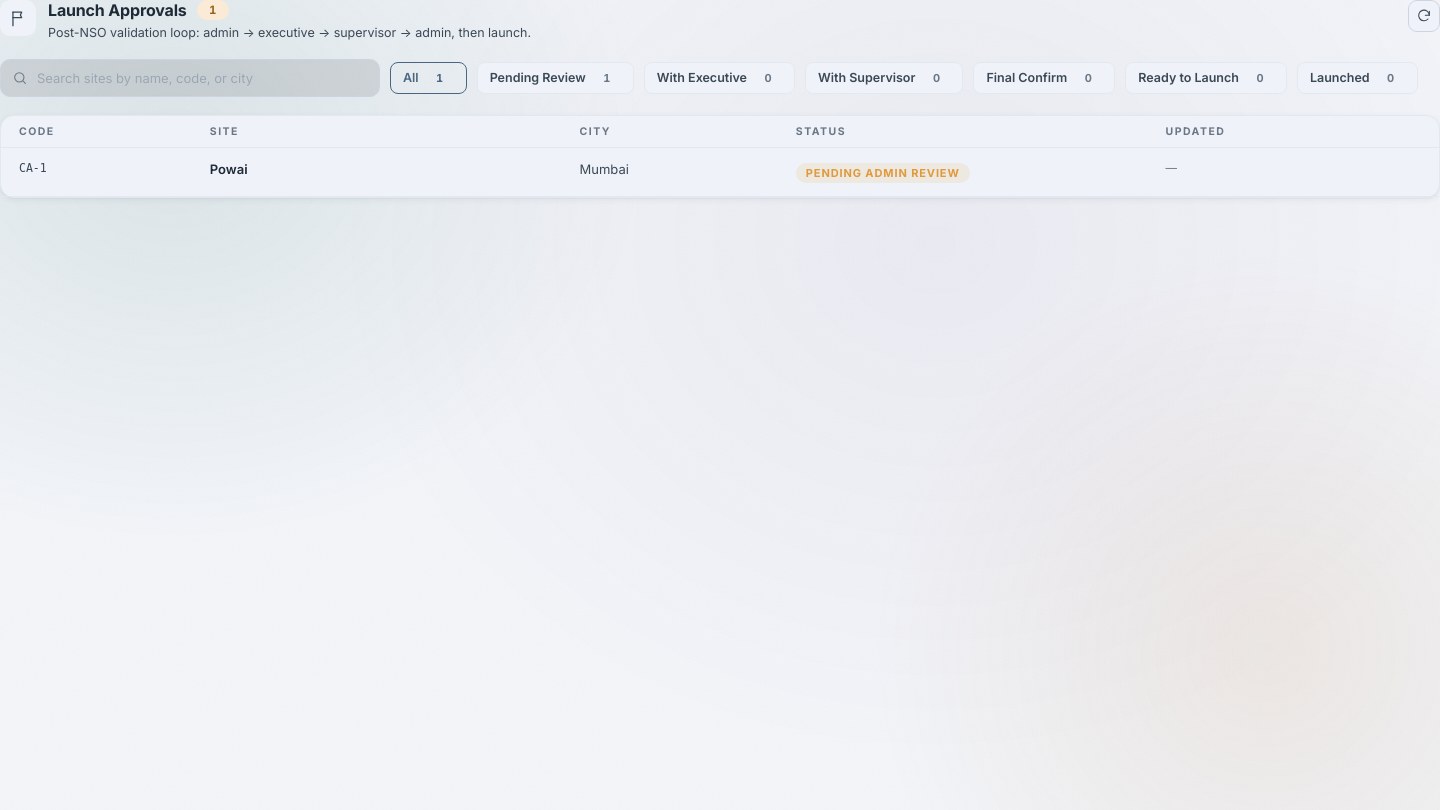
Test case: LaunchApprovalTab — unsaved changes guard › Back dismisses the dialog and does not advance the stage
Click the text "Powai": (229, 169) x1=210 y1=161 x2=248 y2=177
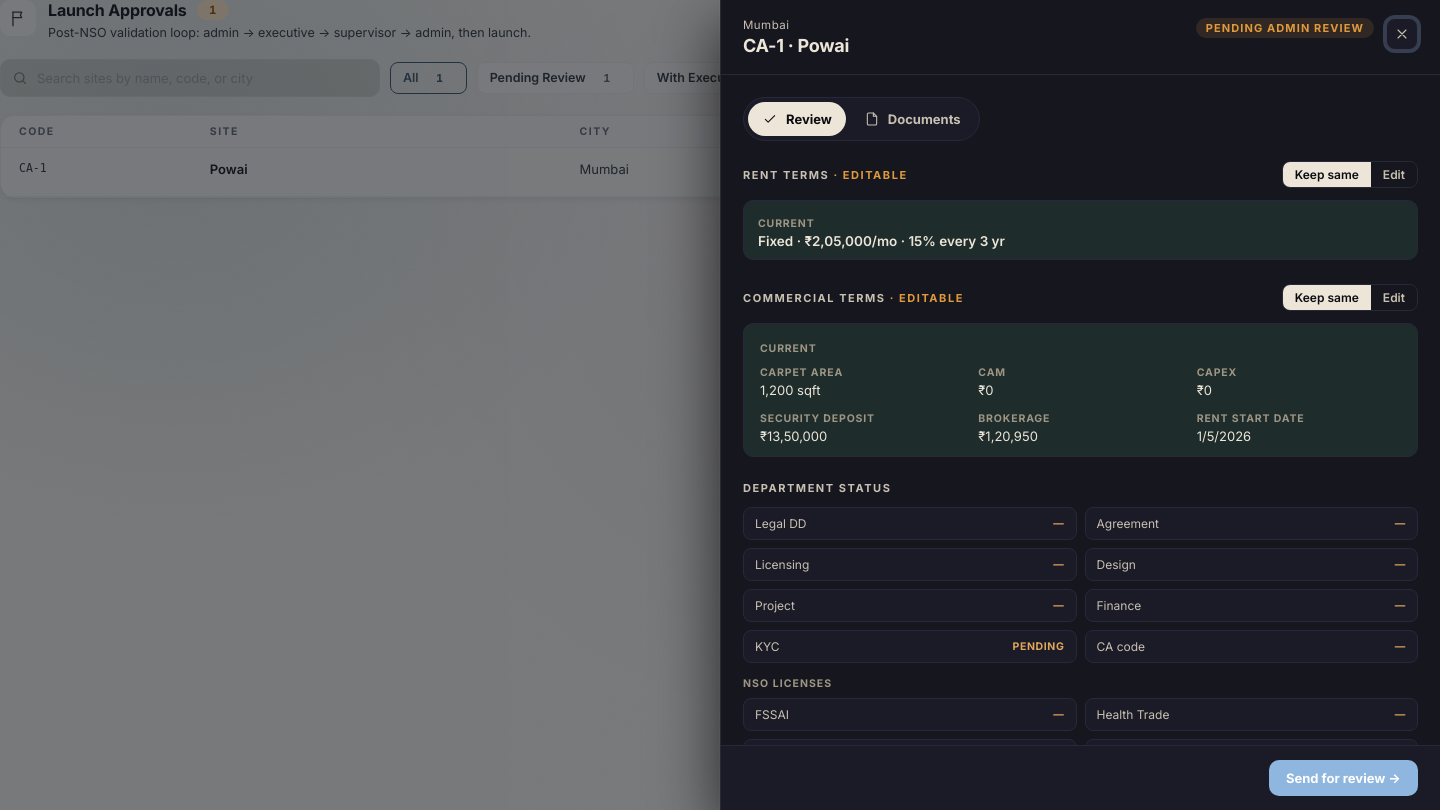
Click the button with aria-label "Edit commercial terms": (1394, 298) x1=1371 y1=285 x2=1417 y2=310
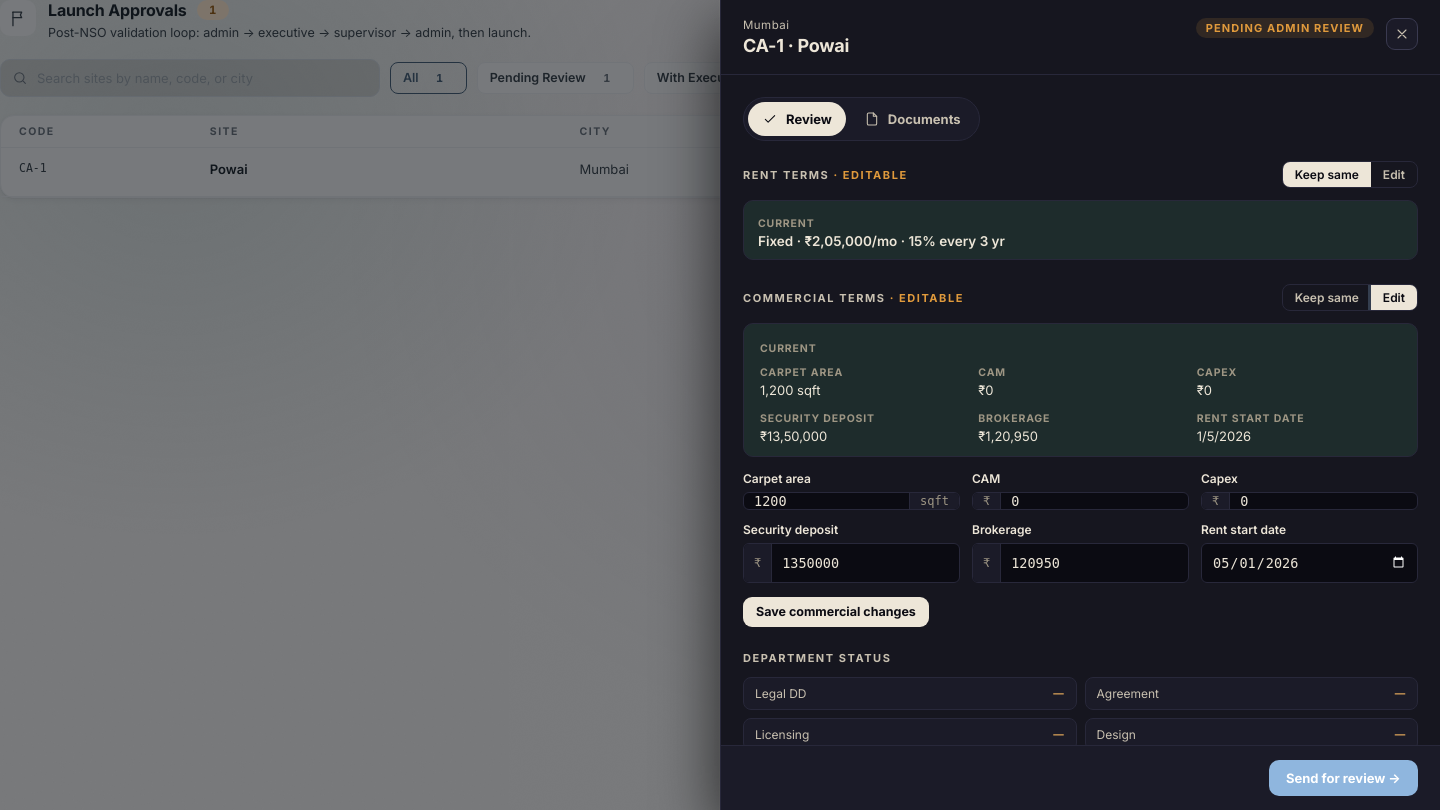
In the 1st number field: (827, 501) x1=744 y1=493 x2=909 y2=509, type "5"
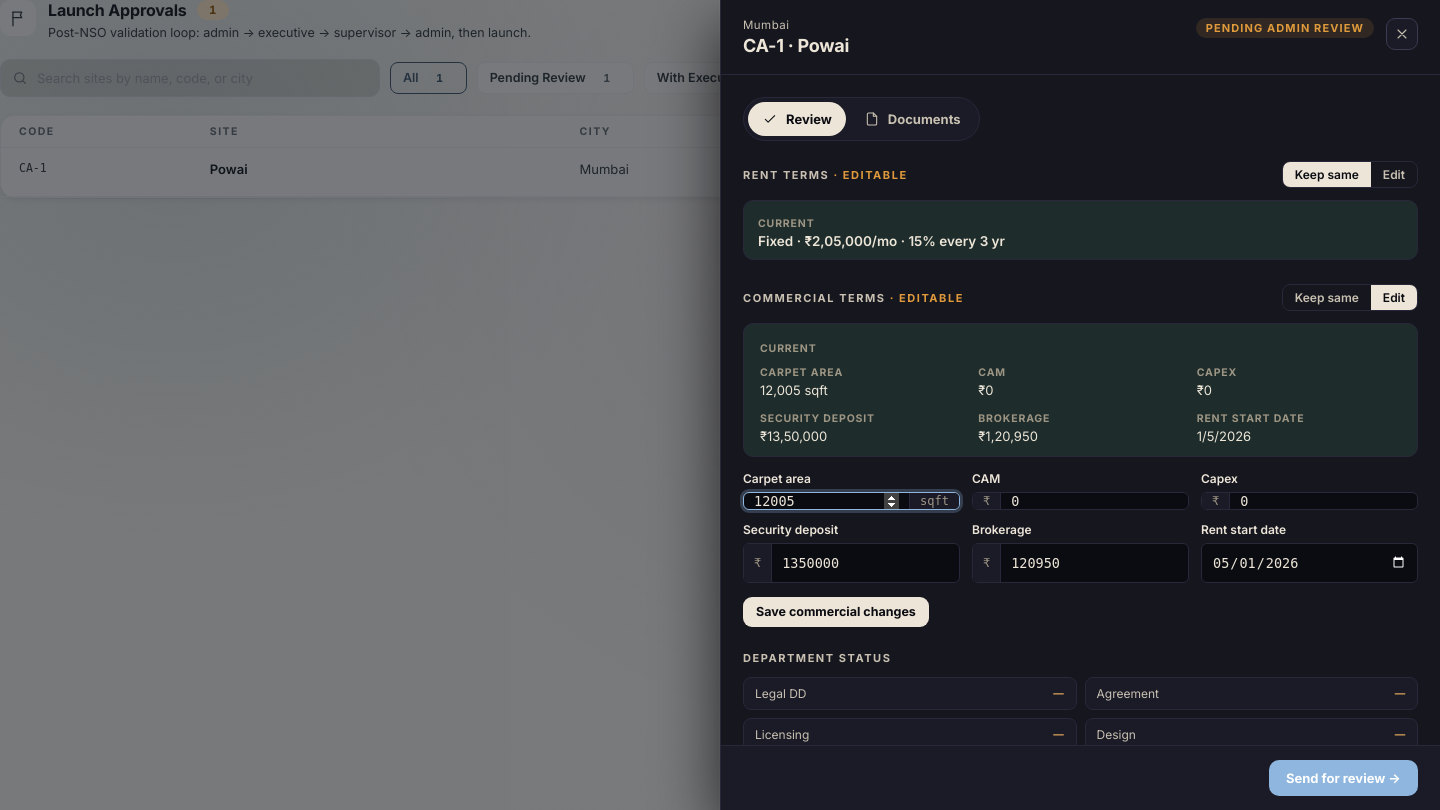
Click the button "Send for review →": (1344, 778) x1=1269 y1=760 x2=1418 y2=796
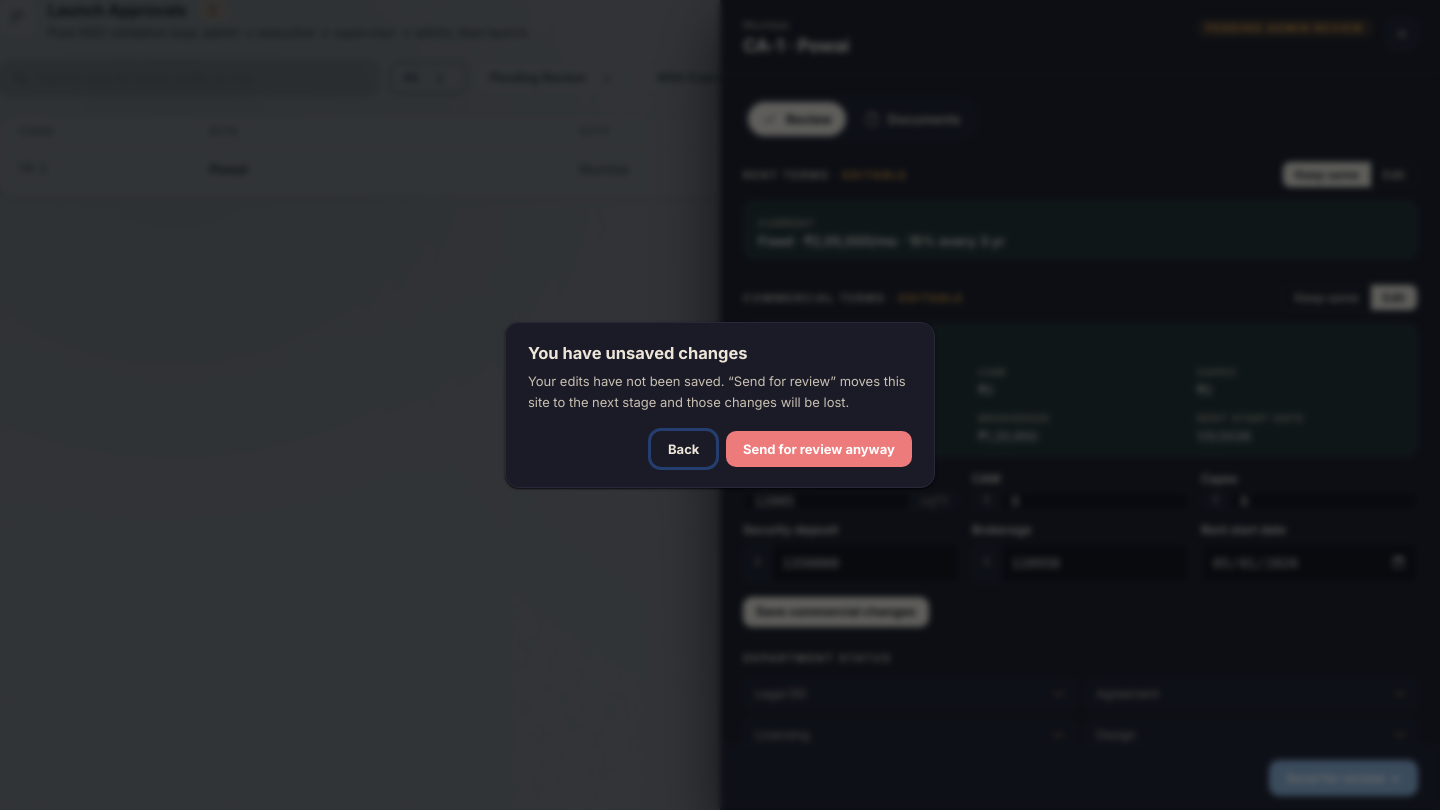
Now the heading "You have unsaved changes" is shown, box x1=528 y1=343 x2=748 y2=363
Click the button "Back": (684, 449) x1=651 y1=431 x2=716 y2=467
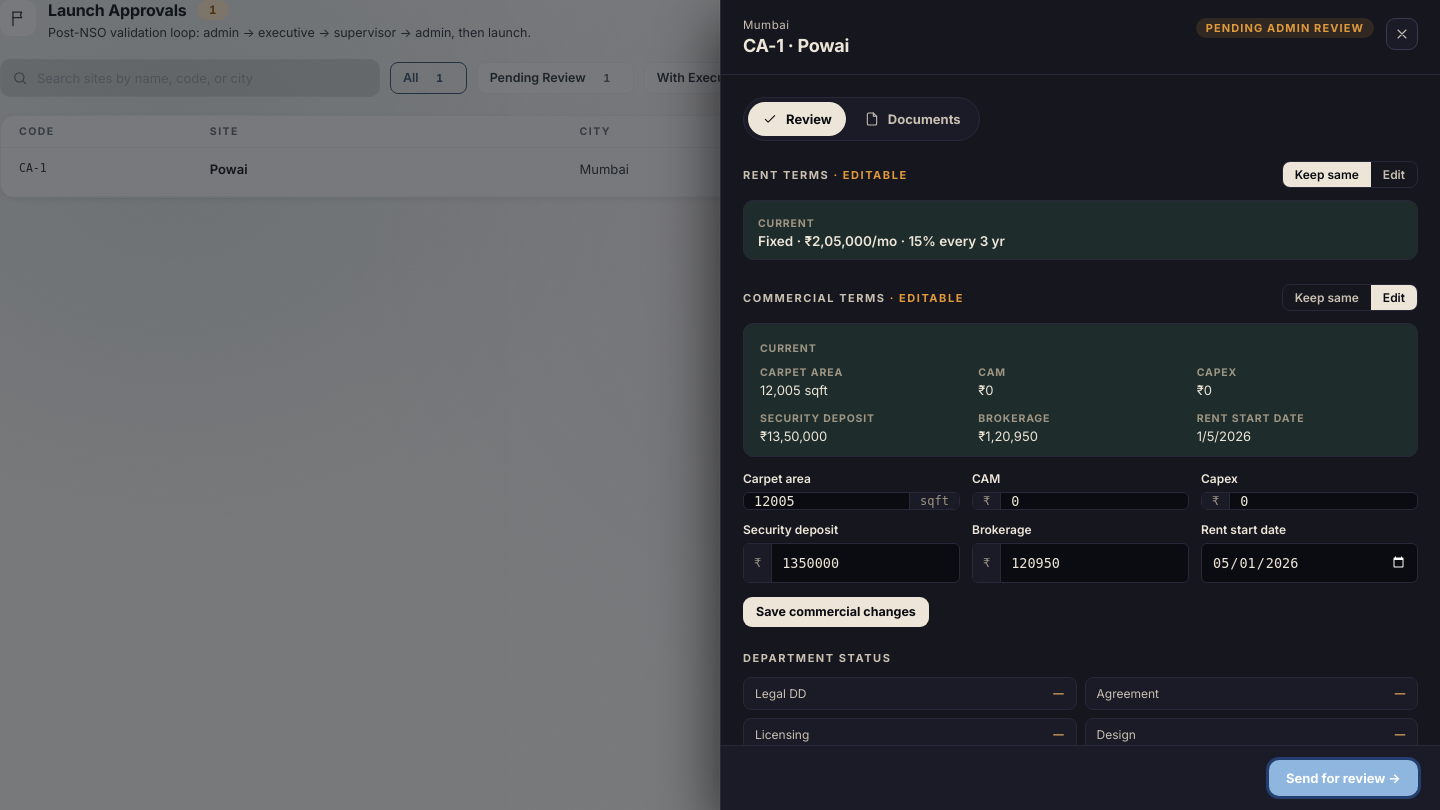
Now the heading "You have unsaved changes" is gone
